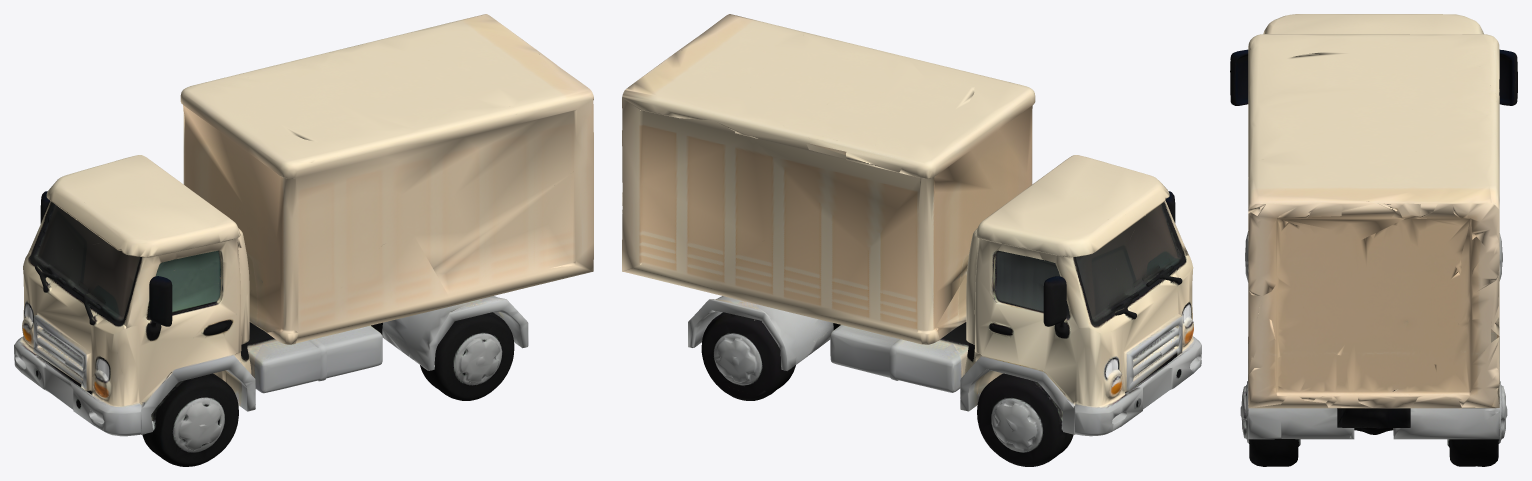
Rendered from MiniCargoTruck.glb.
3 views of the same model, side by side, from view 1: azimuth 30°, elevation 25°; view 2: azimuth 150°, elevation 25°; view 3: azimuth 270°, elevation 25° (orthographic). The views are drawn at different scales.
Bounding box in the file's own units: 1.9 × 1.07 × 0.8596.
Materials: 1 (1 with a texture image).
